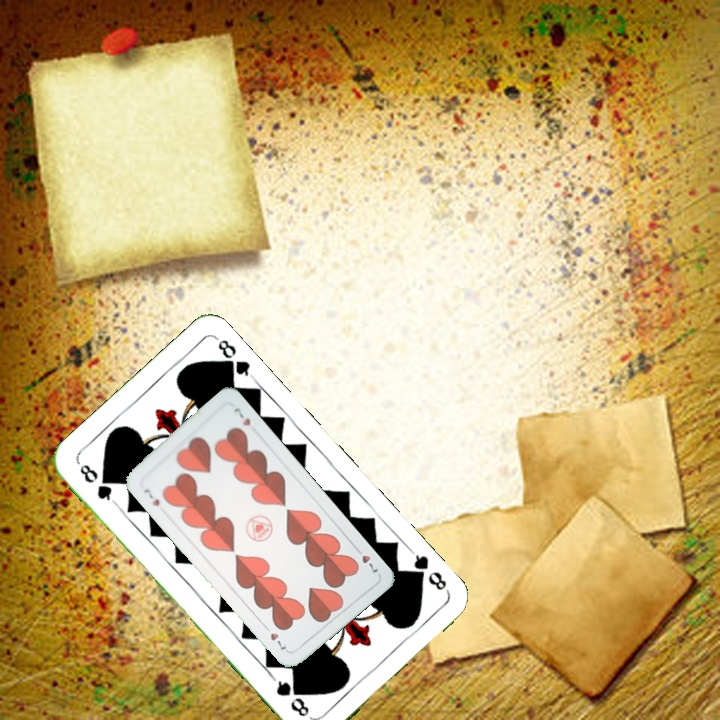G8: (75, 460, 119, 507), (406, 547, 449, 593)
H7: (351, 543, 381, 575), (140, 484, 162, 509)
